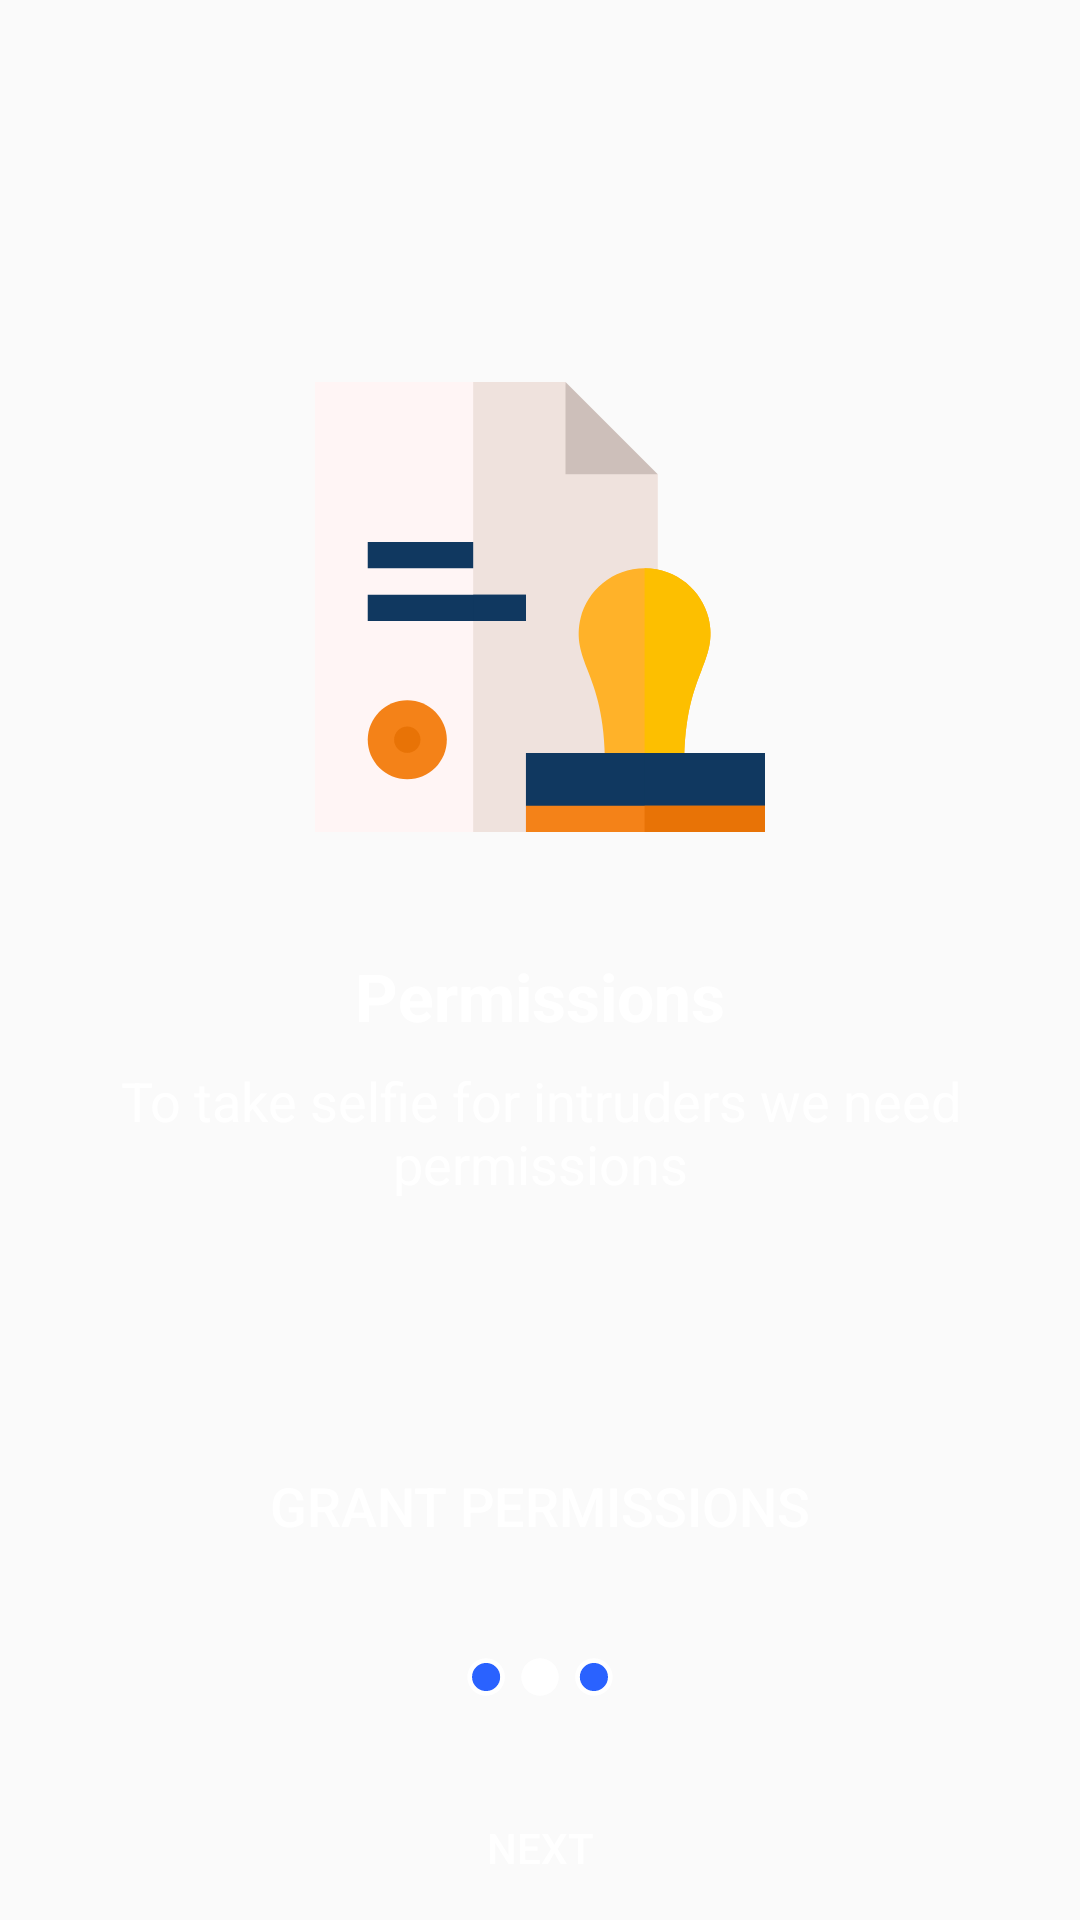

Icons on this 1080w x 1920h Android screen, each with the point to tap as [x,y]:
dot: [540,1677]
